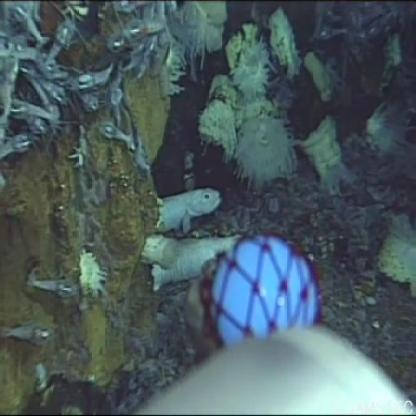Bio: (4, 1, 168, 161), (140, 187, 244, 291)
Rov: (141, 235, 413, 416)
